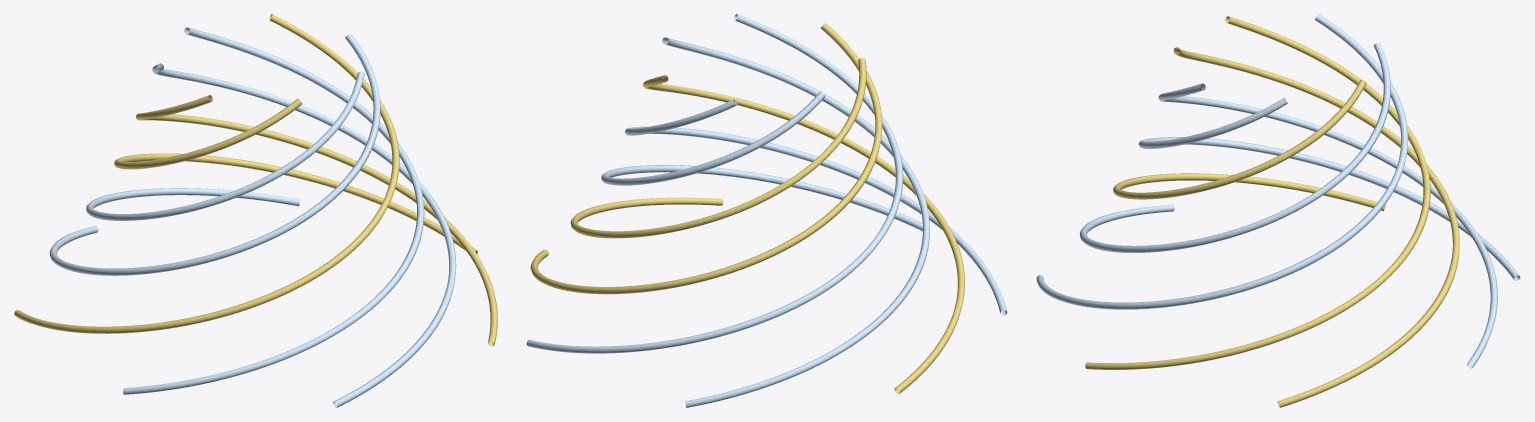
File: ch_ode_flow.gltf
3 renders of one model, left to right at view 1: azimuth 30°, elevation 25°; view 2: azimuth 150°, elevation 25°; view 3: azimuth 270°, elevation 25°, orthographic.
Visible parts, largest first — view 1: FlowField; view 2: FlowField; view 3: FlowField.
Boxes of the visible parts, x1,y1,x2,y2 form: FlowField: [14, 14, 497, 407]; FlowField: [526, 14, 1007, 407]; FlowField: [1036, 14, 1520, 407].
Size of the model in its own units: 2.35 by 1.35 by 2.37.
